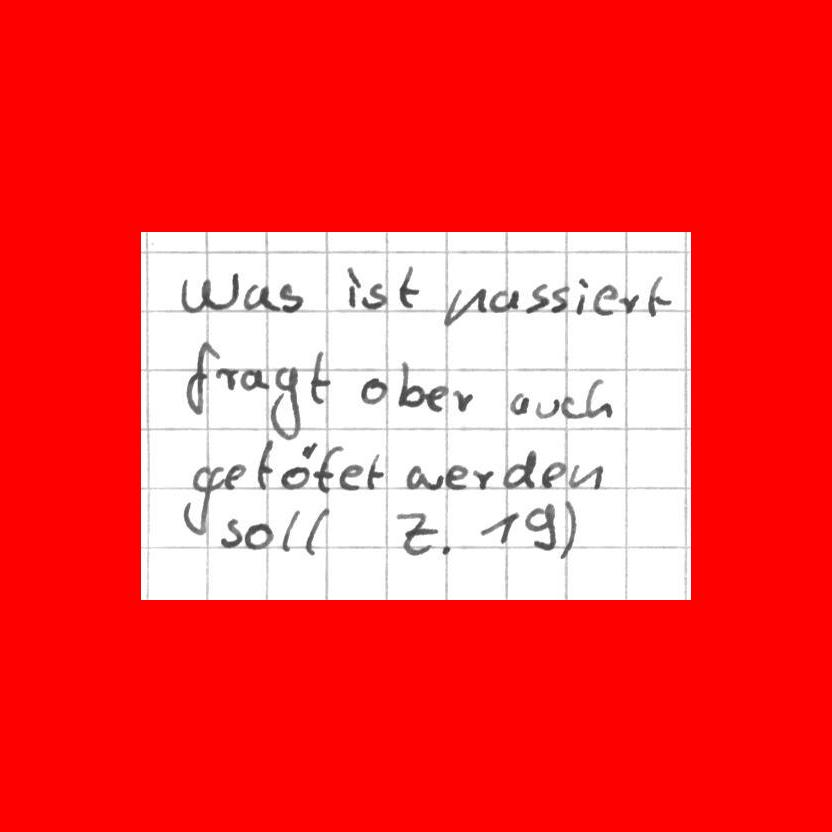Char: (268, 362, 302, 441), (180, 467, 221, 532), (182, 273, 238, 314), (183, 344, 216, 412), (278, 440, 318, 492), (395, 511, 440, 554), (522, 504, 558, 556), (443, 286, 485, 330), (396, 358, 425, 412), (502, 448, 538, 490), (477, 509, 520, 544), (558, 497, 579, 561), (314, 443, 341, 492), (303, 507, 328, 557), (584, 375, 613, 418), (645, 273, 672, 318), (242, 279, 276, 314), (308, 347, 328, 405), (278, 508, 302, 554), (396, 264, 421, 308), (404, 463, 441, 492), (569, 461, 602, 491), (256, 442, 276, 488), (342, 264, 363, 307), (358, 376, 388, 406), (336, 461, 365, 492), (277, 280, 304, 313), (592, 282, 616, 318), (218, 516, 244, 549), (244, 523, 273, 551), (489, 287, 520, 313), (526, 282, 550, 314), (541, 461, 567, 490), (444, 462, 470, 490), (239, 366, 266, 392), (363, 280, 387, 309), (224, 461, 248, 490), (367, 454, 385, 490), (573, 277, 590, 315), (425, 384, 448, 412), (534, 397, 560, 421), (471, 465, 495, 490), (618, 288, 640, 315), (561, 394, 583, 421), (451, 388, 472, 416), (550, 283, 568, 314), (508, 392, 531, 416), (216, 365, 238, 390), (439, 542, 452, 557)
